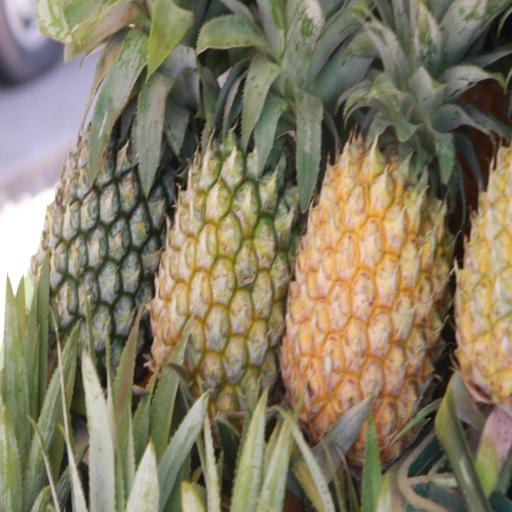------------------------------: (147, 0, 307, 432)
Pineapple - v8 v1: (276, 7, 460, 470)
